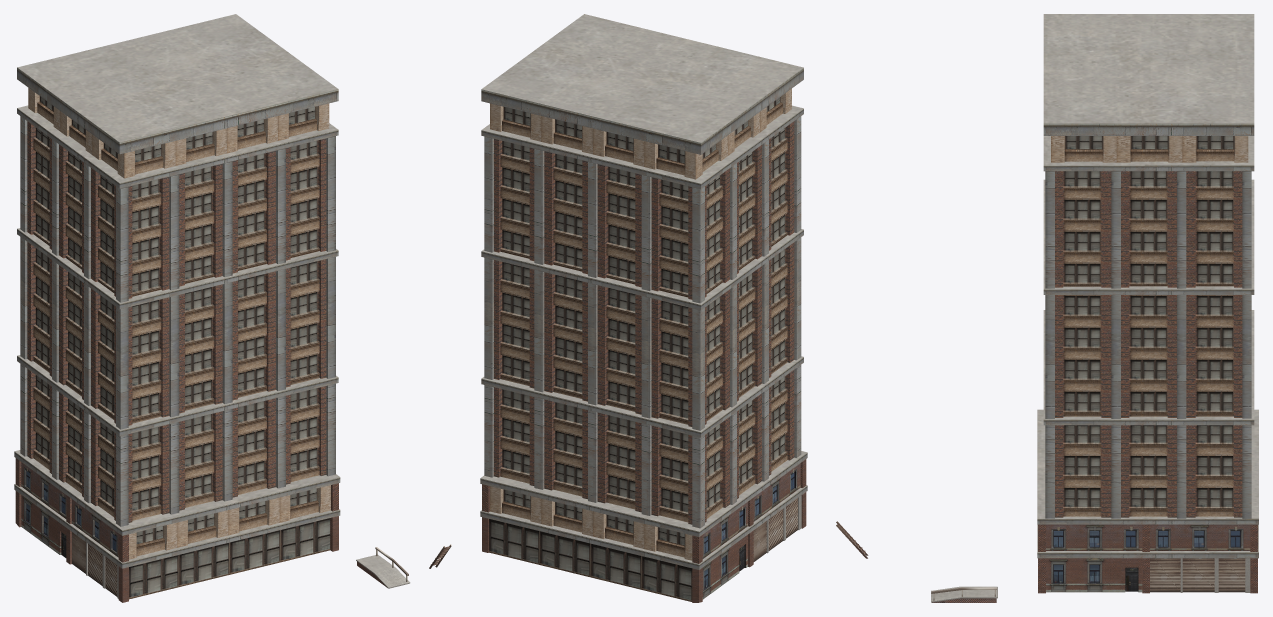
File: Building2_noSidebuilding.fbx
3 renders of one model, left to right at view 1: azimuth 30°, elevation 25°; view 2: azimuth 150°, elevation 25°; view 3: azimuth 270°, elevation 25°, orthographic. The views are drawn at different scales.
Visible parts, largest first — view 1: Atlas_001; view 2: Atlas_001; view 3: Atlas_001.
Boxes of the visible parts, bbox=[...] form: Atlas_001: bbox=[14, 14, 451, 602]; Atlas_001: bbox=[480, 14, 807, 602]; Atlas_001: bbox=[836, 14, 1258, 602].
Bounding box in the file's own units: 3649 × 6772 × 5509.
